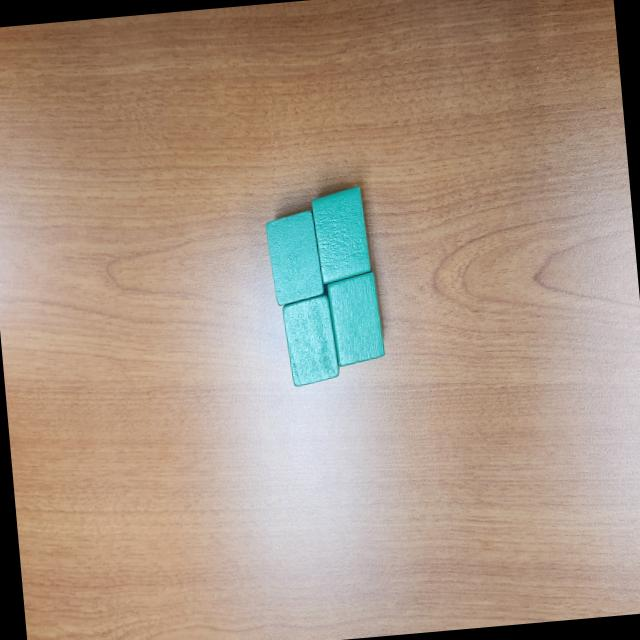green: (310, 184, 372, 285), (264, 207, 326, 306), (325, 271, 385, 369), (280, 294, 341, 388)
